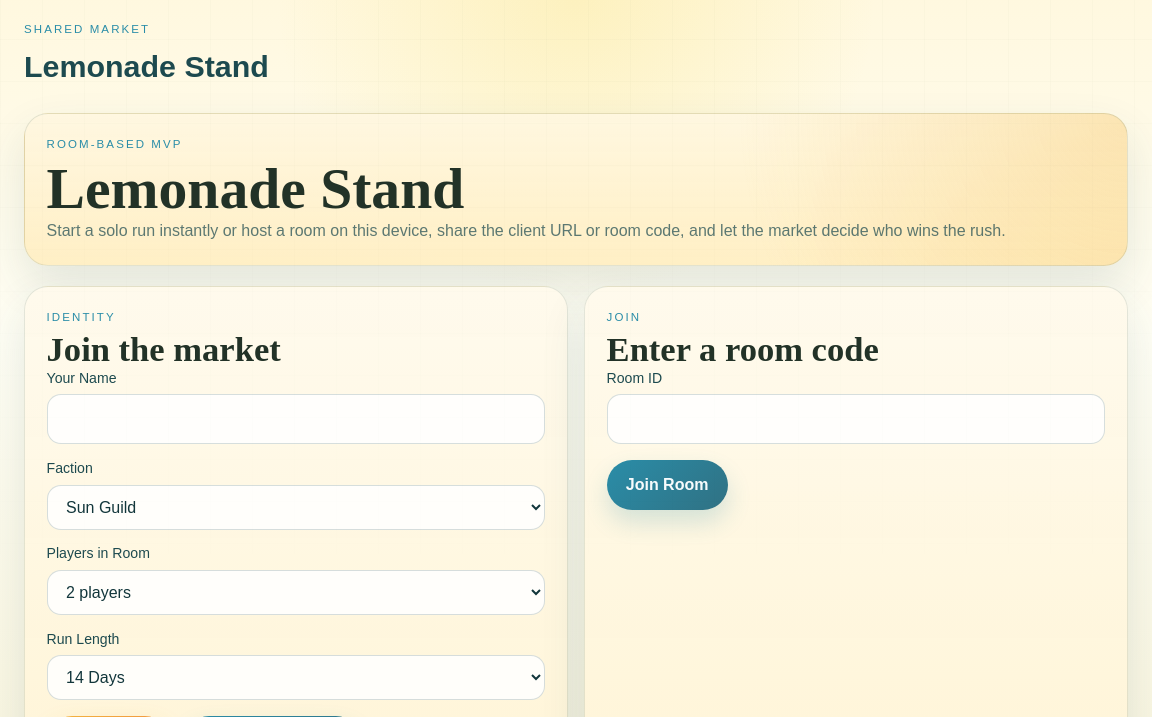
Test: App › shows inventory projection and ingredient cost during planning
Step 1. Type "Alex" into the field labelled "Your Name" → (296, 419), box [47,394,545,444]
(page scrolled)
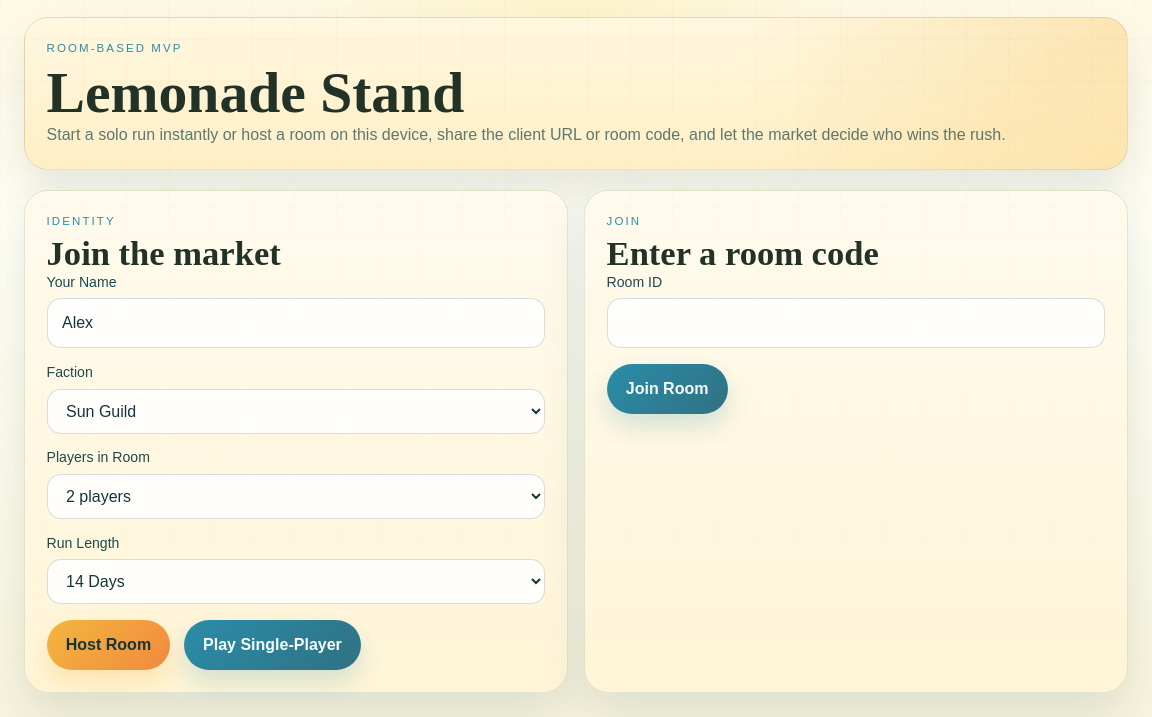
Step 2. Click the button "Host Room" → (108, 645), box [47,620,170,670]
(page scrolled)
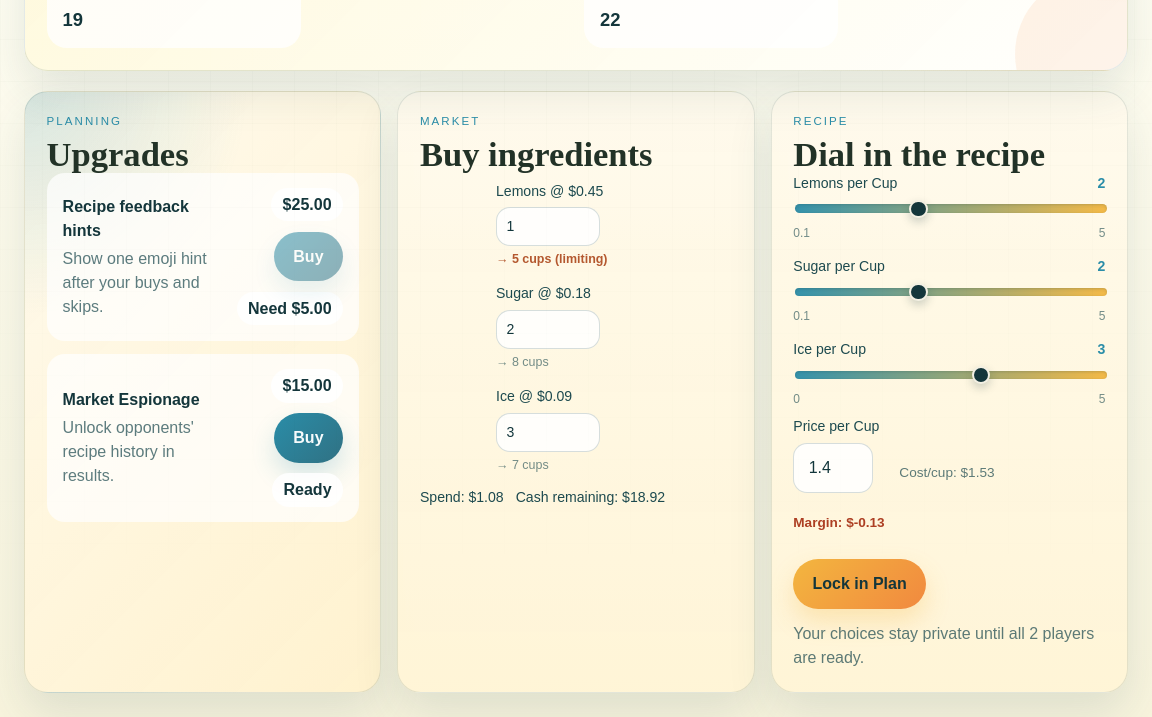
Expected: the text "19" is shown, [63,9,83,30]
Expected: the text "22" is shown, [600,9,620,30]
Expected: the text "Cost/cup: $1.53" is shown, [899,463,994,483]
